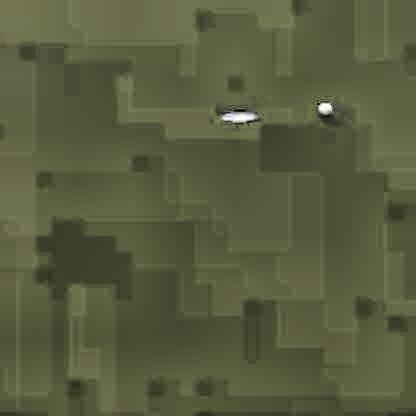golfball: (316, 99, 331, 115)
